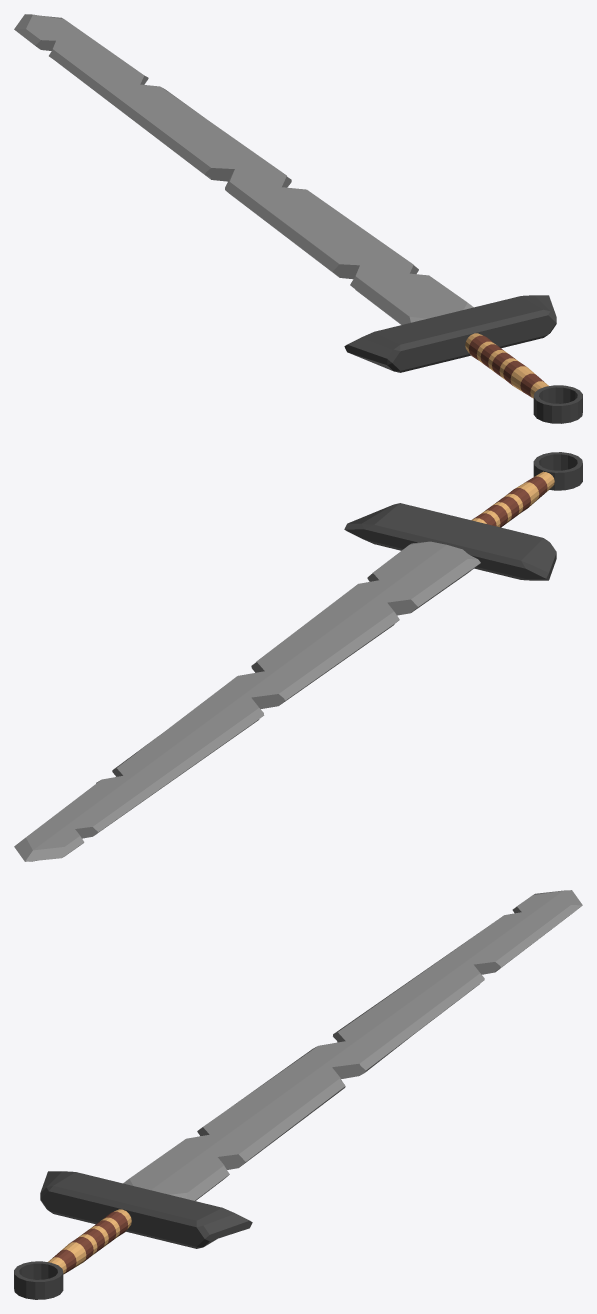
3 renders of one model, top to bottom at view 1: azimuth 30°, elevation 25°; view 2: azimuth 150°, elevation 25°; view 3: azimuth 330°, elevation 25°, orthographic.
Parts seen in each view (by area): view 1: 7; view 2: 7; view 3: 7.
Part boxes in pixels (x1,y1,x2,y2): 7: (14,14,582,423); 7: (14,452,582,861); 7: (14,890,582,1299).
Bounding box in the file's own units: 15.99 × 2.13 × 74.87.
